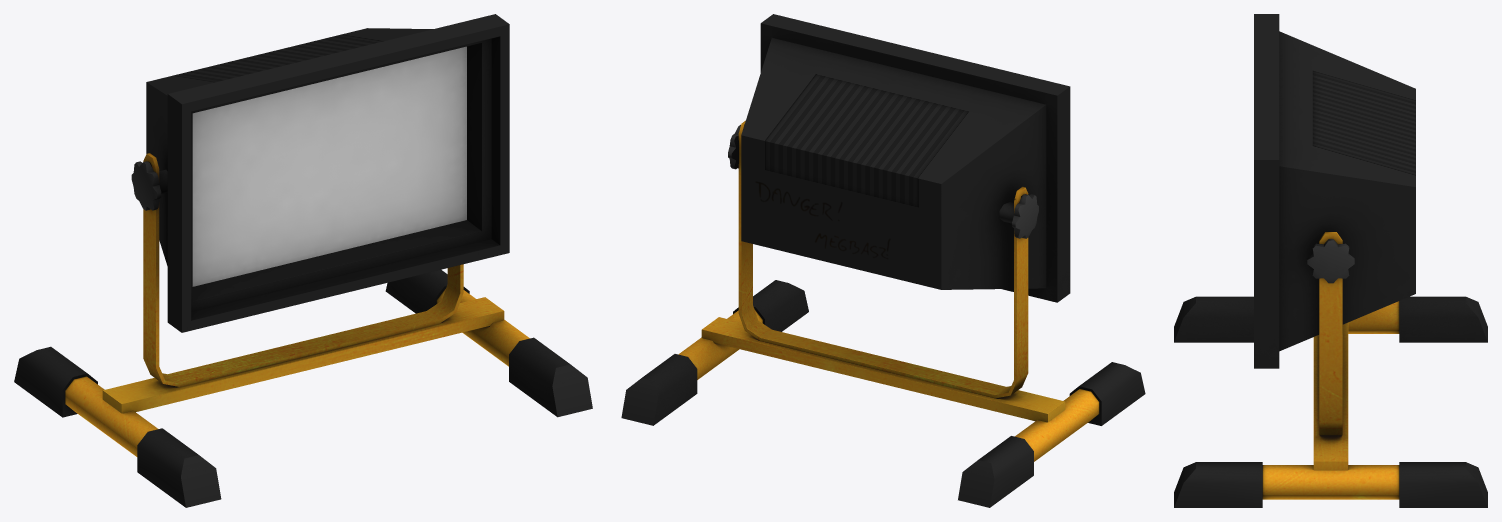
Rendered from floodlight.FBX.
The picture shows the model from 3 angles, left to right: view 1: azimuth 30°, elevation 25°; view 2: azimuth 150°, elevation 25°; view 3: azimuth 270°, elevation 25°; orthographic projection. The views are drawn at different scales.
Parts seen in each view (by area): view 1: Floodlight_glass, Floodlight_lamp, Floodlight_base; view 2: Floodlight_lamp, Floodlight_base; view 3: Floodlight_lamp, Floodlight_base.
Part boxes in pixels (<box>): Floodlight_glass: <box>192,46,466,286</box>; Floodlight_lamp: <box>131,14,509,332</box>; Floodlight_base: <box>14,153,592,507</box>; Floodlight_lamp: <box>728,14,1070,302</box>; Floodlight_base: <box>621,120,1145,507</box>; Floodlight_lamp: <box>1254,14,1415,368</box>; Floodlight_base: <box>1174,232,1487,507</box>.
Size of the model in its own units: 14.66 by 12.46 by 10.73.
